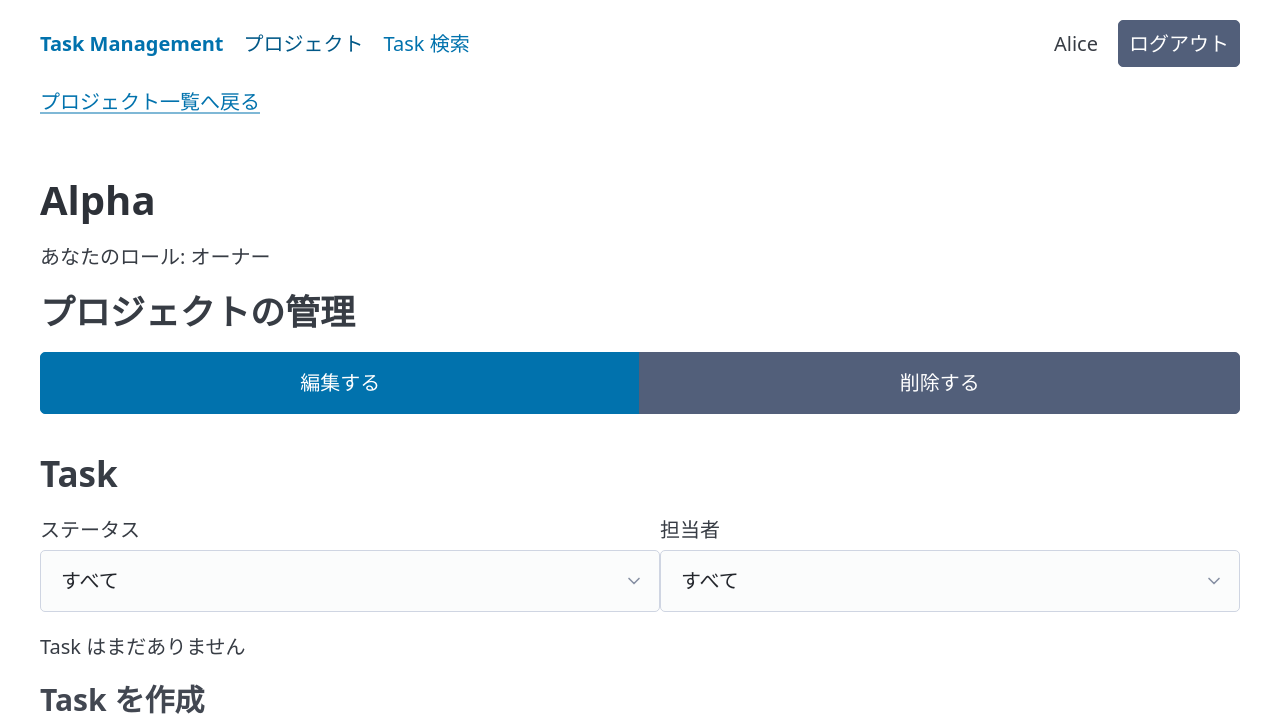
Test: Task の絞り込み › ステータスで絞り込む
This screenshot has width=1280, height=720.
Expected: the text "Task はまだありません" is shown, [40,632,246,660]
Select "完了" in the dropdown labelled "ステータス": (350, 580) [40,550,660,612]
(page scrolled)
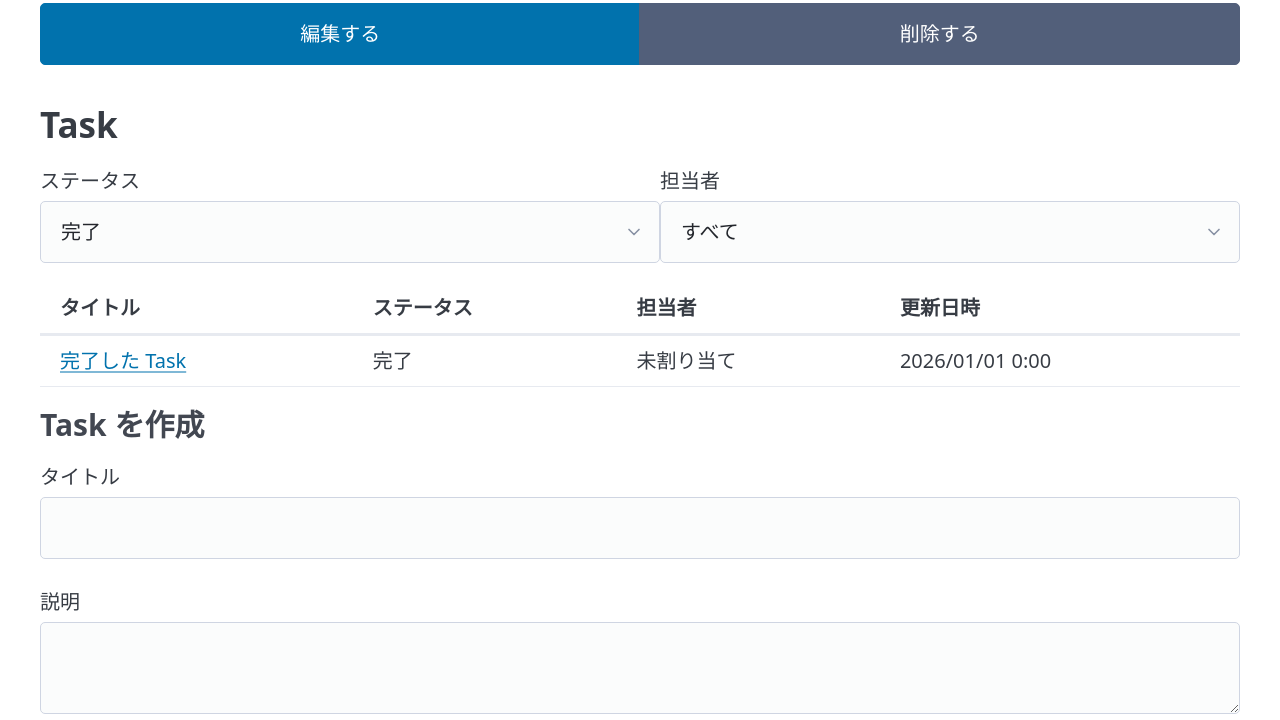
Now the cell "完了した Task" is shown, box [40,334,353,386]
